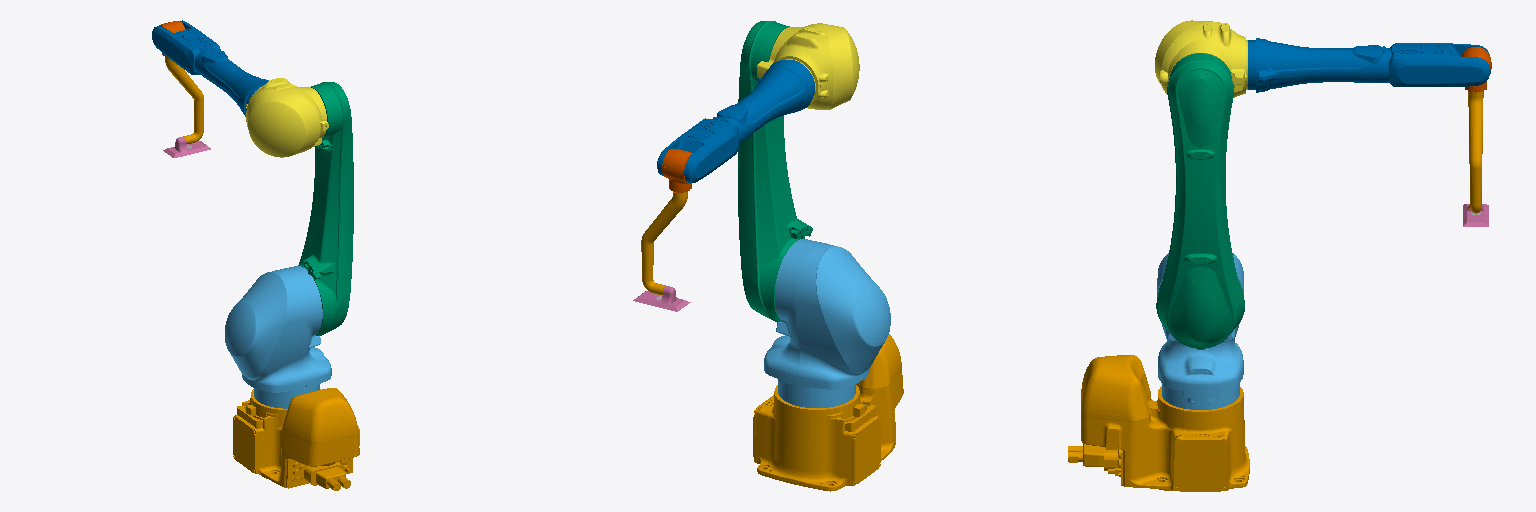
The robot description file, URDF, robot "dex_bot":
<?xml version="1.0" ?>
<!-- =================================================================================== -->
<!-- |    This document was autogenerated by xacro from src/dex_bot/urdf/dex_bot.xacro | -->
<!-- |    EDITING THIS FILE BY HAND IS NOT RECOMMENDED                                 | -->
<!-- =================================================================================== -->
<robot name="dex_bot">
  <!-- <material name="${body_color}">
  <color rgba="0.700 0.700 0.700 1.000"/>
</material> -->
  <!-- <gazebo>
  <plugin name="control" filename="libgazebo_ros2_control.so"/>
</gazebo> -->
  <link name="arm_L0_1">
    <inertial>
      <origin rpy="0 0 0" xyz="-0.0005084775591485124 0.5246904244223437 0.13216732658890662"/>
      <mass value="48.0088488740698"/>
      <inertia ixx="1.070844" ixy="0.004532" ixz="0.001817" iyy="0.581071" iyz="0.168709" izz="1.042479"/>
    </inertial>
    <visual>
      <origin rpy="0 0 0" xyz="-0.725 1.048 -0.75"/>
      <geometry>
        <mesh filename="meshes/arm_L0_1.stl" scale="0.001 0.001 0.001"/>
      </geometry>
      <material name="silver"/>
    </visual>
    <collision>
      <origin rpy="0 0 0" xyz="-0.725 1.048 -0.75"/>
      <geometry>
        <mesh filename="meshes/arm_L0_1.stl" scale="0.001 0.001 0.001"/>
      </geometry>
    </collision>
  </link>
  <link name="arm_L1_1">
    <inertial>
      <origin rpy="0 0 0" xyz="-0.03470375236635259 3.9460788037182226e-07 0.2186631315117692"/>
      <mass value="39.40025124273763"/>
      <inertia ixx="0.695419" ixy="-1e-06" ixz="0.048341" iyy="0.778283" iyz="9e-06" izz="0.365307"/>
    </inertial>
    <visual>
      <origin rpy="0 0 0" xyz="-0.725 0.423315 -0.985"/>
      <geometry>
        <mesh filename="meshes/arm_L1_1.stl" scale="0.001 0.001 0.001"/>
      </geometry>
      <material name="silver"/>
    </visual>
    <collision>
      <origin rpy="0 0 0" xyz="-0.725 0.423315 -0.985"/>
      <geometry>
        <mesh filename="meshes/arm_L1_1.stl" scale="0.001 0.001 0.001"/>
      </geometry>
    </collision>
  </link>
  <link name="arm_L2_1">
    <inertial>
      <origin rpy="0 0 0" xyz="0.08686964865130697 -0.00036228003561100675 0.2760296807586029"/>
      <mass value="29.782191113853642"/>
      <inertia ixx="2.171052" ixy="-0.000666" ixz="-0.10942" iyy="2.151048" iyz="-4.4e-05" izz="0.11547"/>
    </inertial>
    <visual>
      <origin rpy="0 0 0" xyz="-0.798 0.423315 -1.32"/>
      <geometry>
        <mesh filename="meshes/arm_L2_1.stl" scale="0.001 0.001 0.001"/>
      </geometry>
      <material name="silver"/>
    </visual>
    <collision>
      <origin rpy="0 0 0" xyz="-0.798 0.423315 -1.32"/>
      <geometry>
        <mesh filename="meshes/arm_L2_1.stl" scale="0.001 0.001 0.001"/>
      </geometry>
    </collision>
  </link>
  <link name="arm_L3_1">
    <inertial>
      <origin rpy="0 0 0" xyz="-0.11216609330790506 0.008862440197980992 0.00026958674010657546"/>
      <mass value="16.73058890439377"/>
      <inertia ixx="0.116337" ixy="0.001898" ixz="0.000283" iyy="0.108254" iyz="-0.000741" izz="0.122982"/>
    </inertial>
    <visual>
      <origin rpy="0 0 0" xyz="-0.835 0.423315 -2.016131"/>
      <geometry>
        <mesh filename="meshes/arm_L3_1.stl" scale="0.001 0.001 0.001"/>
      </geometry>
      <material name="silver"/>
    </visual>
    <collision>
      <origin rpy="0 0 0" xyz="-0.835 0.423315 -2.016131"/>
      <geometry>
        <mesh filename="meshes/arm_L3_1.stl" scale="0.001 0.001 0.001"/>
      </geometry>
    </collision>
  </link>
  <link name="arm_L4_1">
    <inertial>
      <origin rpy="0 0 0" xyz="4.9945929424422e-05 0.2997392284251538 0.0001857816789221367"/>
      <mass value="11.946951298656325"/>
      <inertia ixx="0.481716" ixy="0.000901" ixz="2e-06" iyy="0.022918" iyz="-0.000102" izz="0.485145"/>
    </inertial>
    <visual>
      <origin rpy="0 0 0" xyz="-0.725 0.289915 -2.016131"/>
      <geometry>
        <mesh filename="meshes/arm_L4_1.stl" scale="0.001 0.001 0.001"/>
      </geometry>
      <material name="silver"/>
    </visual>
    <collision>
      <origin rpy="0 0 0" xyz="-0.725 0.289915 -2.016131"/>
      <geometry>
        <mesh filename="meshes/arm_L4_1.stl" scale="0.001 0.001 0.001"/>
      </geometry>
    </collision>
  </link>
  <link name="arm_L5_1">
    <inertial>
      <origin rpy="0 0 0" xyz="-0.03872088033691912 -1.2710397158832709e-05 -0.009061695493699062"/>
      <mass value="0.9645909322307937"/>
      <inertia ixx="0.001229" ixy="1e-06" ixz="-1e-05" iyy="0.001184" iyz="0.0" izz="0.000826"/>
    </inertial>
    <visual>
      <origin rpy="0 0 0" xyz="-0.765 -0.360085 -2.016131"/>
      <geometry>
        <mesh filename="meshes/arm_L5_1.stl" scale="0.001 0.001 0.001"/>
      </geometry>
      <material name="silver"/>
    </visual>
    <collision>
      <origin rpy="0 0 0" xyz="-0.765 -0.360085 -2.016131"/>
      <geometry>
        <mesh filename="meshes/arm_L5_1.stl" scale="0.001 0.001 0.001"/>
      </geometry>
    </collision>
  </link>

  <link name="arm_L7_2">
    <inertial>
      <origin rpy="0 0 0" xyz="-0.0038872164260756736 4.472601176031254e-06 0.02573915023374662"/>
      <mass value="0.1372353878364928"/>
      <inertia ixx="5.9e-05" ixy="0.0" ixz="1.8e-05" iyy="0.0002" iyz="-0.0" izz="0.000215"/>
    </inertial>
    <visual>
      <origin rpy="0 0 0" xyz="0.05 -1.3e-05 -0.500049"/>
      <geometry>
        <mesh filename="meshes/arm_L7_2.stl" scale="0.001 0.001 0.001"/>
      </geometry>
      <material name="silver"/>
    </visual>
    <collision>
      <origin rpy="0 0 0" xyz="0.05 -1.3e-05 -0.500049"/>
      <geometry>
        <mesh filename="meshes/arm_L7_2.stl" scale="0.001 0.001 0.001"/>
      </geometry>
    </collision>
  </link>
  <link name="arm_L8_1">
    <inertial>
      <origin rpy="0 0 0" xyz="0.0 -4.7570234809293815e-07 0.00499999743384727"/>
      <mass value="0.007704755982928965"/>
      <inertia ixx="0.0" ixy="0.0" ixz="-0.0" iyy="0.0" iyz="0.0" izz="1e-06"/>
    </inertial>
    <visual>
      <origin rpy="0 0 0" xyz="0.062 -1.8e-05 -0.537424"/>
      <geometry>
        <mesh filename="meshes/arm_L8_1.stl" scale="0.001 0.001 0.001"/>
      </geometry>
      <material name="silver"/>
    </visual>
    <!-- <collision>
    <origin xyz="0.062 -1.8e-05 -0.537424" rpy="0 0 0"/>
    <geometry>
      <mesh filename="file://$(find dex_bot)/meshes/arn_L8_1.stl" scale="0.001 0.001 0.001"/>
    </geometry>
  </collision> -->
  </link>
  <link name="arm_L6_2">
    <inertial>
      <origin rpy="0 0 0" xyz="-0.06297493798243411 -7.005067031751953e-06 0.16106219981007797"/>
      <mass value="0.5006201031909427"/>
      <inertia ixx="0.005416" ixy="0.0" ixz="0.001789" iyy="0.006256" iyz="-0.0" izz="0.000932"/>
    </inertial>
    <visual>
      <origin rpy="0 0 0" xyz="3.9e-05 9.7e-05 -0.0"/>
      <geometry>
        <mesh filename="meshes/arm_L6_3.stl" scale="0.001 0.001 0.001"/>
      </geometry>
      <material name="silver"/>
    </visual>
    <collision>
      <origin rpy="0 0 0" xyz="3.9e-05 9.7e-05 -0.0"/>
      <geometry>
        <mesh filename="meshes/arm_L6_3.stl" scale="0.001 0.001 0.001"/>
      </geometry>
    </collision>
  </link>
  <joint name="arm_joint7" type="revolute">
    <origin rpy="0 0 0" xyz="-0.049996 6e-06 0.340049"/>
    <parent link="arm_L6_2"/>
    <child link="arm_L7_2"/>
    <axis xyz="1.0 0.0 0.0"/>
    <limit effort="100" lower="-1.919862" upper="1.919862" velocity="100"/>
  </joint>
  <joint name="arm_joint8" type="revolute">
    <origin rpy="0 3.14 0" xyz="-0.012 5e-06 0.037375"/>
    <parent link="arm_L7_2"/>
    <child link="arm_L8_1"/>
    <axis xyz="0.0 0.0 1.0"/>
    <limit effort="100" lower="0.0" upper="0.0" velocity="100"/>
  </joint>

  <!-- <joint name="arm_joint0" type="fixed">
    <origin rpy="0 0 0" xyz="-0.191743 -0.398 0.175"/>
    <parent link="slide_base_1"/>
    <child link="arm_L0_1"/>
  </joint> -->
  <joint name="arm_joint1" type="revolute">
    <origin rpy="0 0 0" xyz="0.0 0.624685 0.235"/>
    <parent link="arm_L0_1"/>
    <child link="arm_L1_1"/>
    <axis xyz="0.0 -0.0 1.0"/>
    <limit effort="1000.0" lower="-3.14" upper="3.14" velocity="2.5"/>
  </joint>
  <joint name="arm_joint2" type="revolute">
    <origin rpy="0 0 0" xyz="0.073 0.0 0.335"/>
    <parent link="arm_L1_1"/>
    <child link="arm_L2_1"/>
    <axis xyz="1.0 -0.0 0.0"/>
    <limit effort="1000" lower="-3.14" upper="3.14" velocity="1000"/>
  </joint>
  <joint name="arm_joint3" type="revolute">
    <origin rpy="0 0 0" xyz="0.037 0.0 0.696131"/>
    <parent link="arm_L2_1"/>
    <child link="arm_L3_1"/>
    <axis xyz="-1.0 0.0 -0.0"/>
    <limit effort="1000" lower="-3.14" upper="3.14" velocity="1000"/>
  </joint>
  <joint name="arm_joint4" type="revolute">
    <origin rpy="0 0 0" xyz="-0.11 0.1334 0.0"/>
    <parent link="arm_L3_1"/>
    <child link="arm_L4_1"/>
    <axis xyz="-0.0 1.0 -0.0"/>
    <limit effort="1000" lower="-3.14" upper="3.14" velocity="1000"/>
  </joint>
  <joint name="arm_joint5" type="revolute">
    <origin rpy="0 0 0" xyz="0.04 0.65 0.0"/>
    <parent link="arm_L4_1"/>
    <child link="arm_L5_1"/>
    <axis xyz="-1.0 -0.0 0.0"/>
    <limit effort="1000" lower="-3.14" upper="3.14" velocity="1000"/>
  </joint>
  <joint name="arm_joint6" type="revolute">
    <origin rpy="0 3.14 0" xyz="-0.04 0.0 -0.067"/>
    <parent link="arm_L5_1"/>
    <child link="arm_L6_2"/>
    <axis xyz="-0.0 -0.0 -1.0"/>
    <limit effort="1000" lower="-3.14" upper="3.14" velocity="1000"/>
  </joint>

</robot>

--- What the picture shows (computed from the rendered views, not written in the file) ---
3 views of the same robot in one strip: view 1: azimuth 30°, elevation 25°; view 2: azimuth 150°, elevation 25°; view 3: azimuth 270°, elevation 25° (orthographic).
Model dex_bot with 9 links and 8 joints (8 revolute), rooted at arm_L0_1, posed all joints at 0.
Links seen in each view (by area): view 1: arm_L1_1, arm_L0_1, arm_L2_1, arm_L3_1, arm_L4_1, arm_L6_2; view 2: arm_L1_1, arm_L0_1, arm_L2_1, arm_L4_1, arm_L3_1, arm_L6_2, arm_L5_1, arm_L7_2; view 3: arm_L2_1, arm_L0_1, arm_L4_1, arm_L1_1, arm_L3_1, arm_L6_2.
Link boxes in pixels (x1,y1,x2,y2): arm_L1_1: (225,266,331,408); arm_L0_1: (233,388,359,490); arm_L2_1: (298,82,353,335); arm_L3_1: (246,78,328,157); arm_L4_1: (152,20,268,116); arm_L6_2: (165,57,203,143); arm_L1_1: (764,239,890,407); arm_L0_1: (753,334,903,491); arm_L2_1: (738,21,812,322); arm_L4_1: (657,60,814,182); arm_L3_1: (757,23,859,109); arm_L6_2: (641,192,687,294); arm_L5_1: (662,149,692,193); arm_L7_2: (633,286,690,311); arm_L2_1: (1156,53,1244,349); arm_L0_1: (1068,355,1249,491); arm_L4_1: (1248,38,1490,92); arm_L1_1: (1157,253,1243,409); arm_L3_1: (1155,20,1247,97); arm_L6_2: (1468,91,1483,213).
Size in the robot's own frame: 0.4577 by 1.21 by 1.39 metres.
Meshes: 9 distinct files referenced, 9 mesh visuals loaded (9 binary STL).
